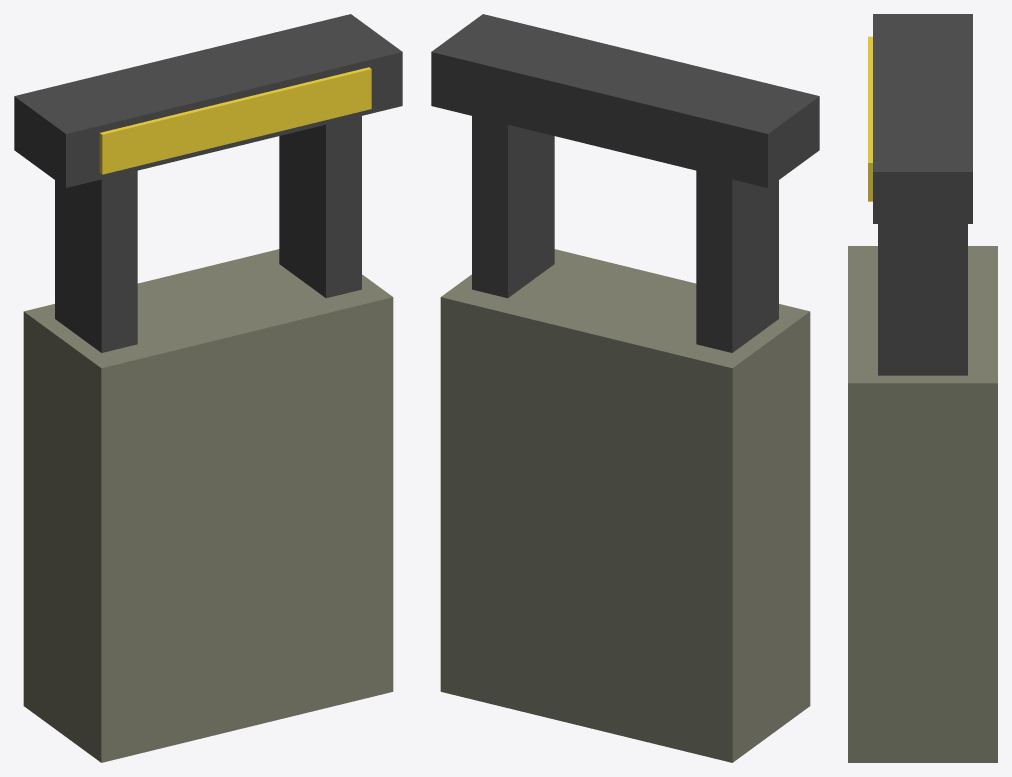
Rendered from yard_stop.fbx.
The picture shows the model from 3 angles, left to right: view 1: azimuth 30°, elevation 25°; view 2: azimuth 150°, elevation 25°; view 3: azimuth 270°, elevation 25°; orthographic projection. The views are drawn at different scales.
Parts seen in each view (by area): view 1: a1064/0/yard_stop; view 2: a1064/0/yard_stop; view 3: a1064/0/yard_stop.
Boxes of the visible parts, box(x1,y1,x2,y2) form: a1064/0/yard_stop: box(14, 14, 402, 762); a1064/0/yard_stop: box(431, 14, 819, 762); a1064/0/yard_stop: box(848, 14, 997, 762).
Bounding box in the file's own units: 1.5 × 2.66 × 0.6.
